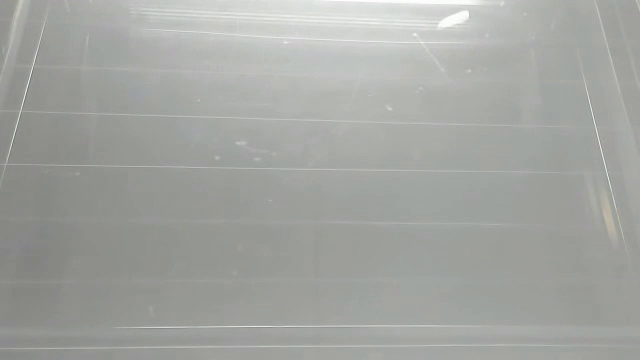alpha: (432, 8, 475, 30)
